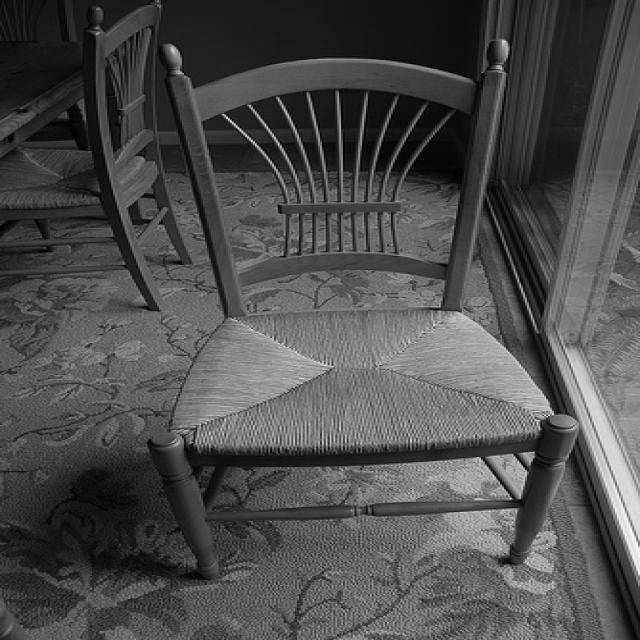chair: (154, 41, 586, 594)
